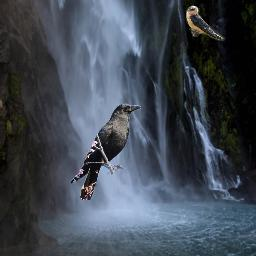Crow: (70, 103, 141, 200)
Swallow: (186, 4, 225, 41)
